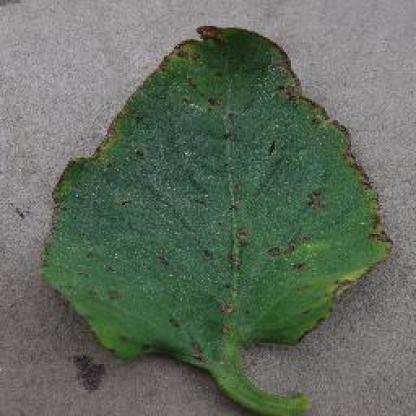bad leaf: (320, 113, 387, 258), (269, 38, 308, 125), (171, 27, 230, 72), (263, 238, 321, 283), (224, 211, 251, 278), (216, 300, 252, 344), (93, 286, 141, 318), (89, 128, 127, 167), (204, 95, 245, 129), (328, 271, 361, 301), (253, 136, 279, 158), (163, 253, 181, 280)
